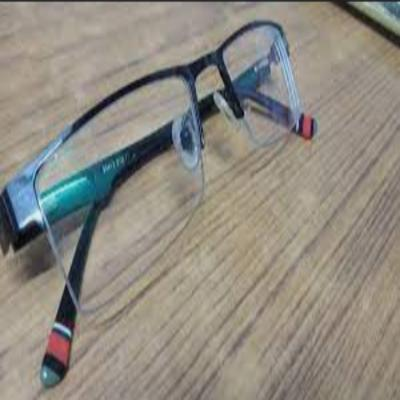glasses: (1, 17, 319, 387)
